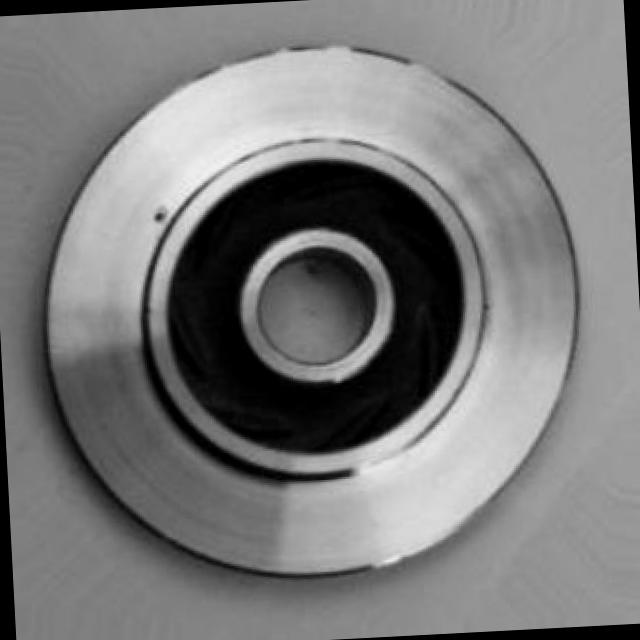Defect: (146, 199, 180, 234)
